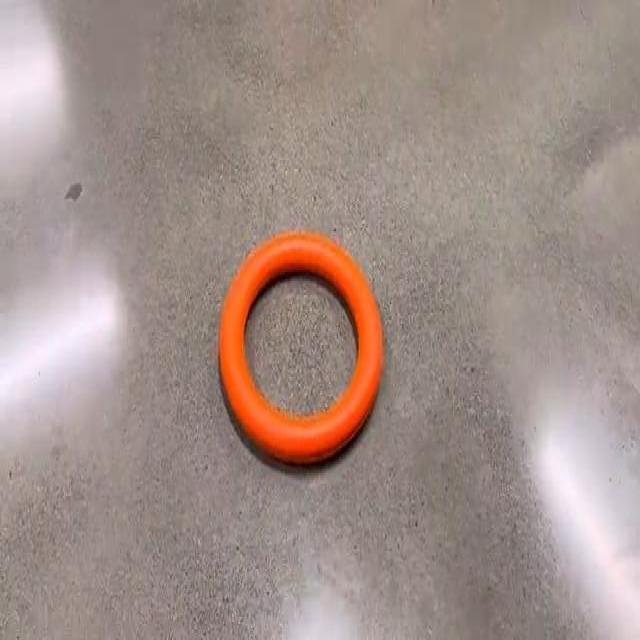note: (219, 231, 383, 464)
